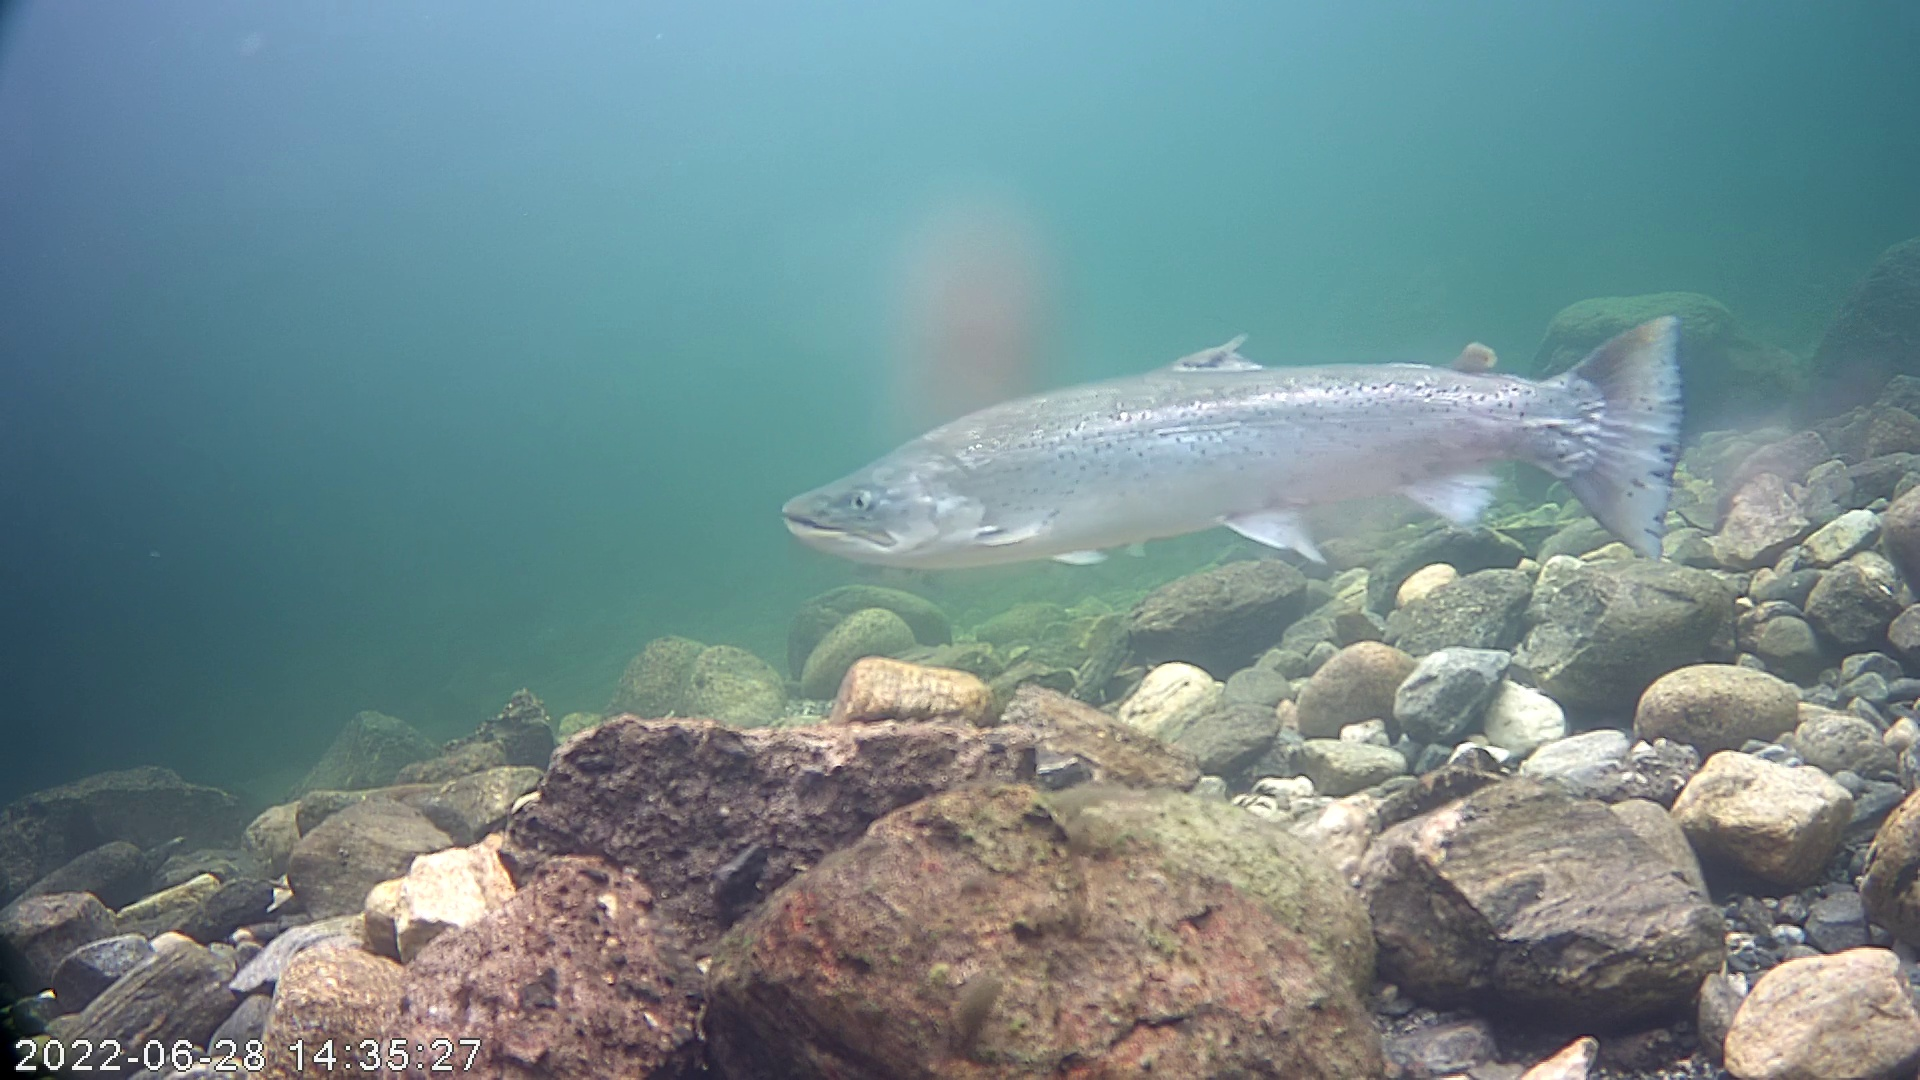salmon: (767, 216, 1720, 647)
